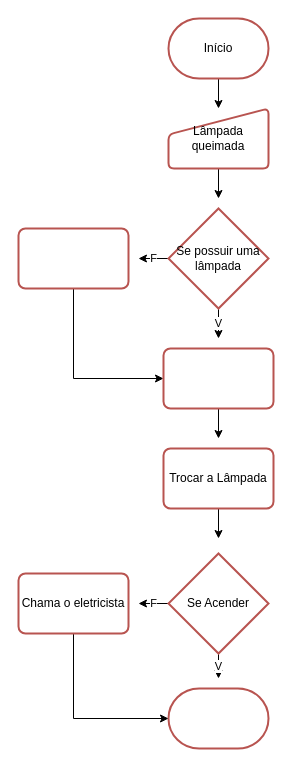
Image size: 291x766. Some labels were removed from this diagram. The centre of each missing label's shape, as x and y in pixels:
"Comprar uma lãmpada" belongs at [73,258].
"Fim" belongs at [218,718].
"Posicionar a Lâmpada" belongs at [218,378].
